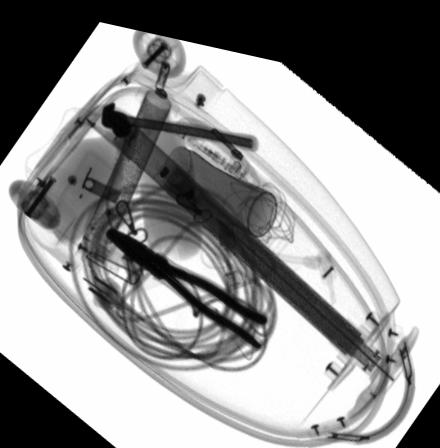Hammer: (100, 96, 257, 137)
Pliers: (103, 220, 267, 339)
